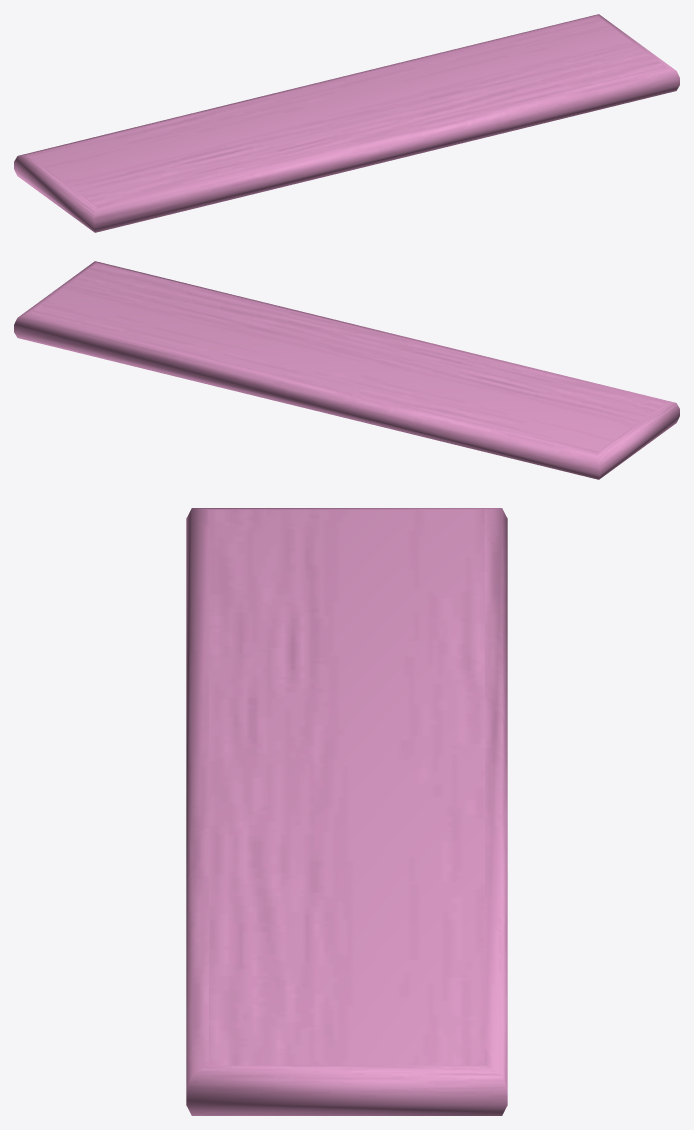
File: Straight_Shelving_10.FBX
3 renders of one model, top to bottom at view 1: azimuth 30°, elevation 25°; view 2: azimuth 150°, elevation 25°; view 3: azimuth 270°, elevation 25°, orthographic. The views are drawn at different scales.
Parts seen in each view (by area): view 1: Shelf_Straight; view 2: Shelf_Straight; view 3: Shelf_Straight.
Part boxes in pixels (left/top/right/bottom): Shelf_Straight: left=14, top=14, right=679, bottom=232; Shelf_Straight: left=14, top=261, right=679, bottom=479; Shelf_Straight: left=186, top=508, right=507, bottom=1115.
Size of the model in its own units: 200 by 8 by 47.55.
